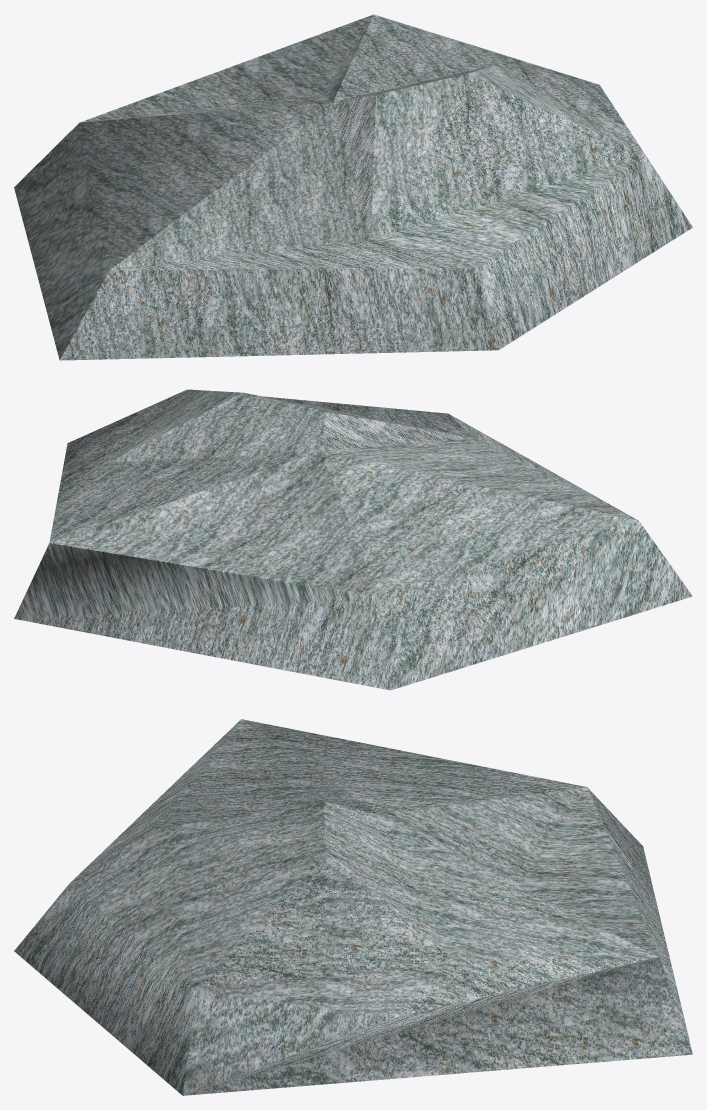
File: rock_graniteslab_large_l3.fbx
3 renders of one model, top to bottom at view 1: azimuth 30°, elevation 25°; view 2: azimuth 150°, elevation 25°; view 3: azimuth 270°, elevation 25°, orthographic. The views are drawn at different scales.
Visible parts, largest first — view 1: mesh_node; view 2: mesh_node; view 3: mesh_node.
Part boxes in pixels (x1=…): mesh_node: x1=14, y1=14, x2=692, y2=360; mesh_node: x1=14, y1=389, x2=692, y2=690; mesh_node: x1=14, y1=719, x2=692, y2=1095.
Bounding box in the file's own units: 5.5 × 1.26 × 4.83.
